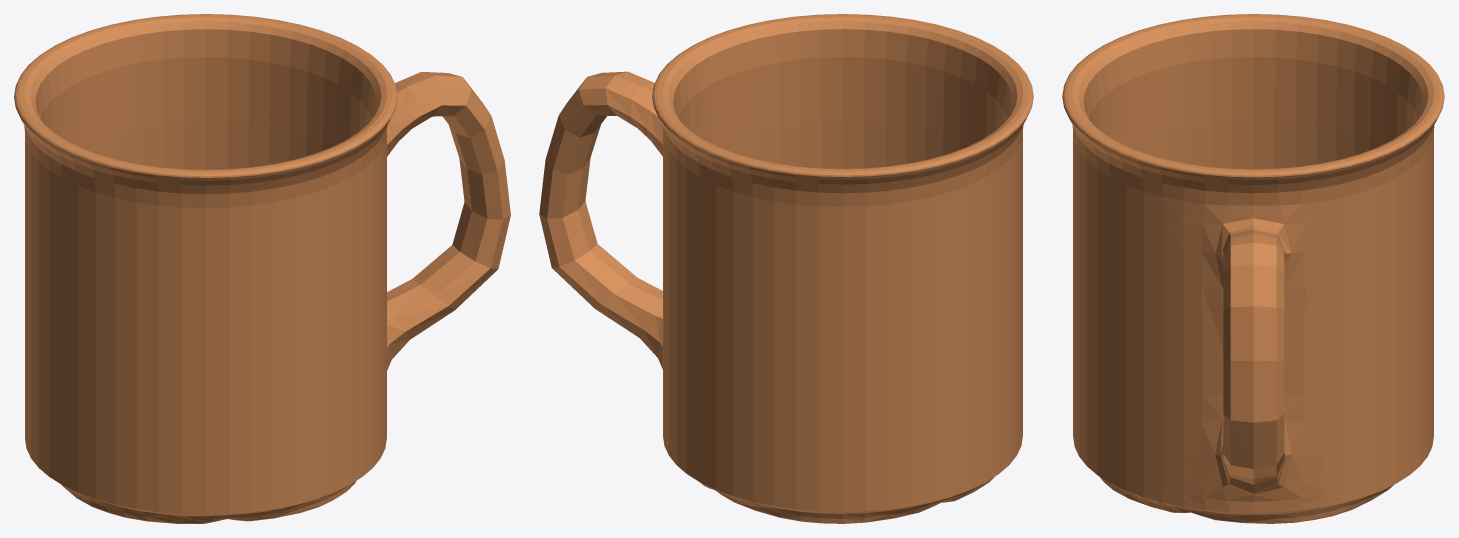
File: 09884841-5739-4458-9dd4-4865eea029e1.glb
3 renders of one model, left to right at view 1: azimuth 30°, elevation 25°; view 2: azimuth 150°, elevation 25°; view 3: azimuth 270°, elevation 25°, orthographic.
Parts seen in each view (by area): view 1: Mug; view 2: Mug; view 3: Mug.
Boxes of the visible parts, x1,y1,x2,y2 form: Mug: [14, 14, 510, 523]; Mug: [539, 14, 1033, 523]; Mug: [1062, 14, 1444, 523].
Size of the model in its own units: 245 by 184 by 175.
